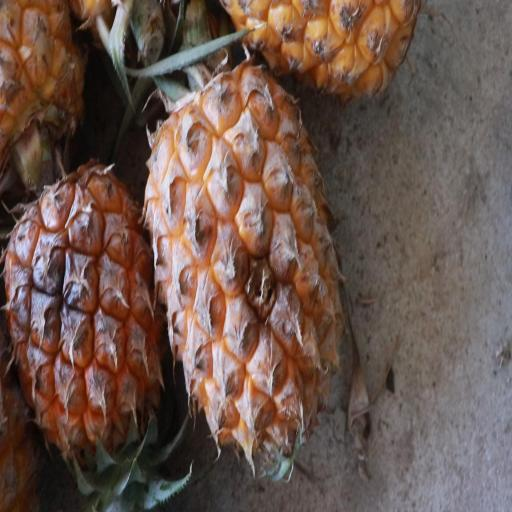Pineapple - v8 v1: (141, 57, 348, 476), (2, 154, 160, 469), (3, 492, 6, 497)
